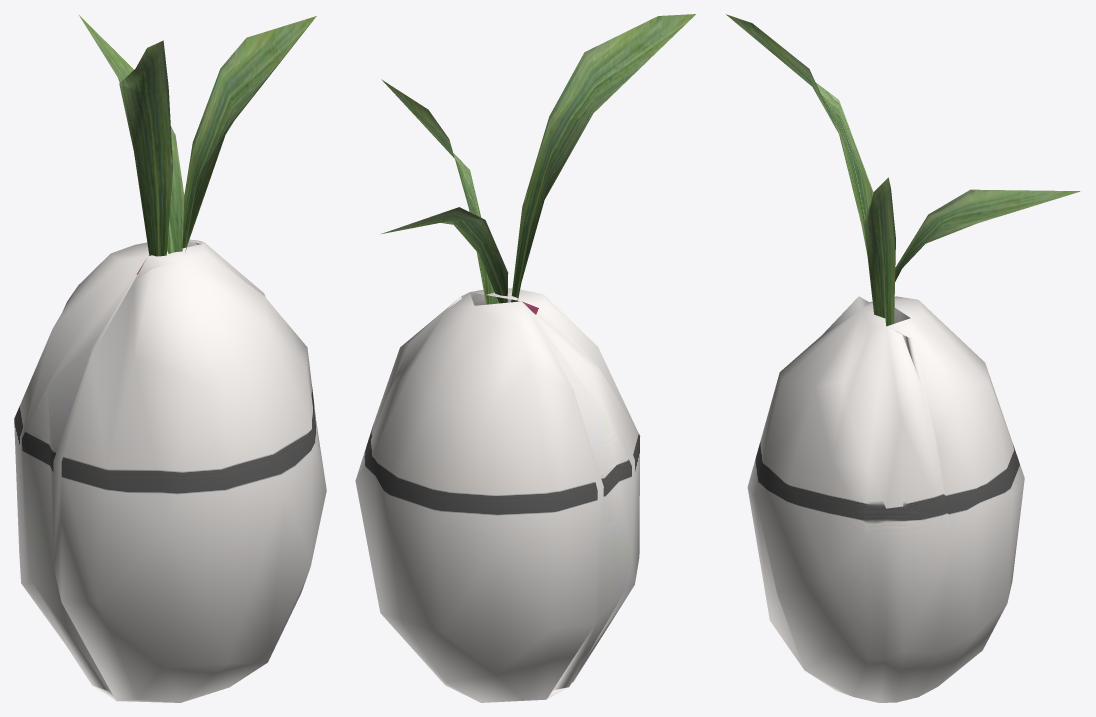
File: Plant0023.obj
3 renders of one model, left to right at view 1: azimuth 30°, elevation 25°; view 2: azimuth 150°, elevation 25°; view 3: azimuth 270°, elevation 25°, orthographic. The views are drawn at different scales.
Size of the model in its own units: 0.113 by 0.277 by 0.144.
1 material, 1 textured.
